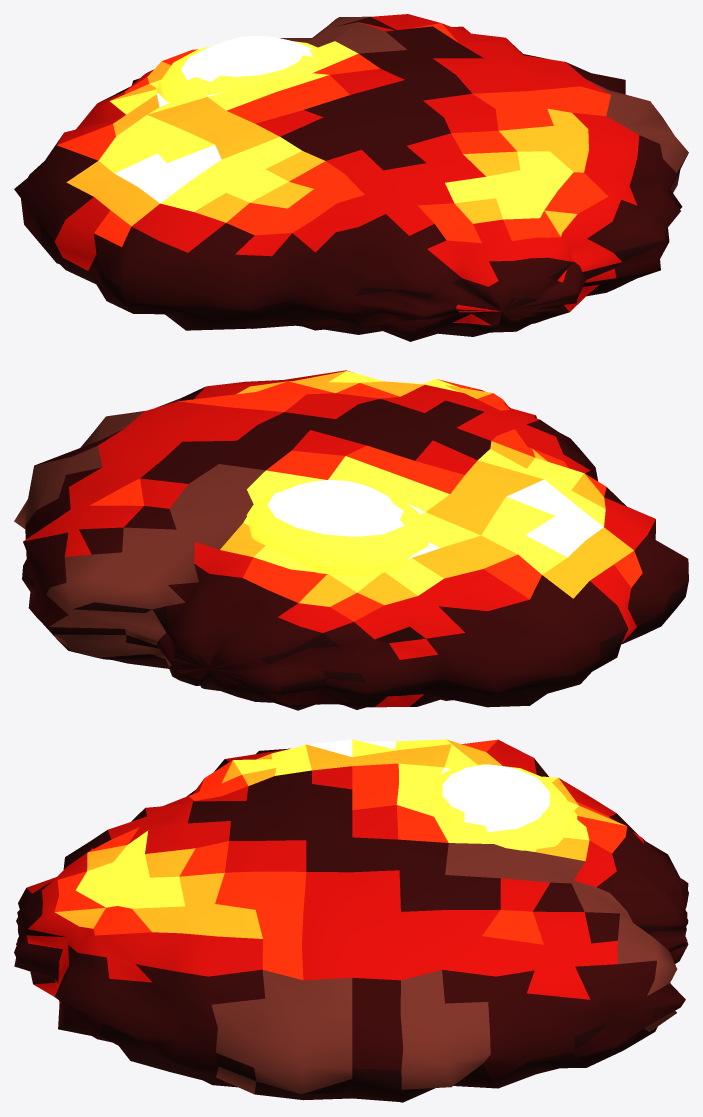
Rendered from newshg-1.glb.
3 renders of one model, top to bottom at view 1: azimuth 30°, elevation 25°; view 2: azimuth 150°, elevation 25°; view 3: azimuth 270°, elevation 25°, orthographic. The views are drawn at different scales.
Parts seen in each view (by area): view 1: newshg-1; view 2: newshg-1; view 3: newshg-1.
Boxes of the visible parts, x1=… form: newshg-1: x1=14, y1=14, x2=688, y2=341; newshg-1: x1=14, y1=370, x2=688, y2=710; newshg-1: x1=14, y1=739, x2=688, y2=1102.
Size of the model in its own units: 1.6 by 0.5081 by 1.48.
